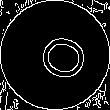O_W: (23, 26, 87, 84)
